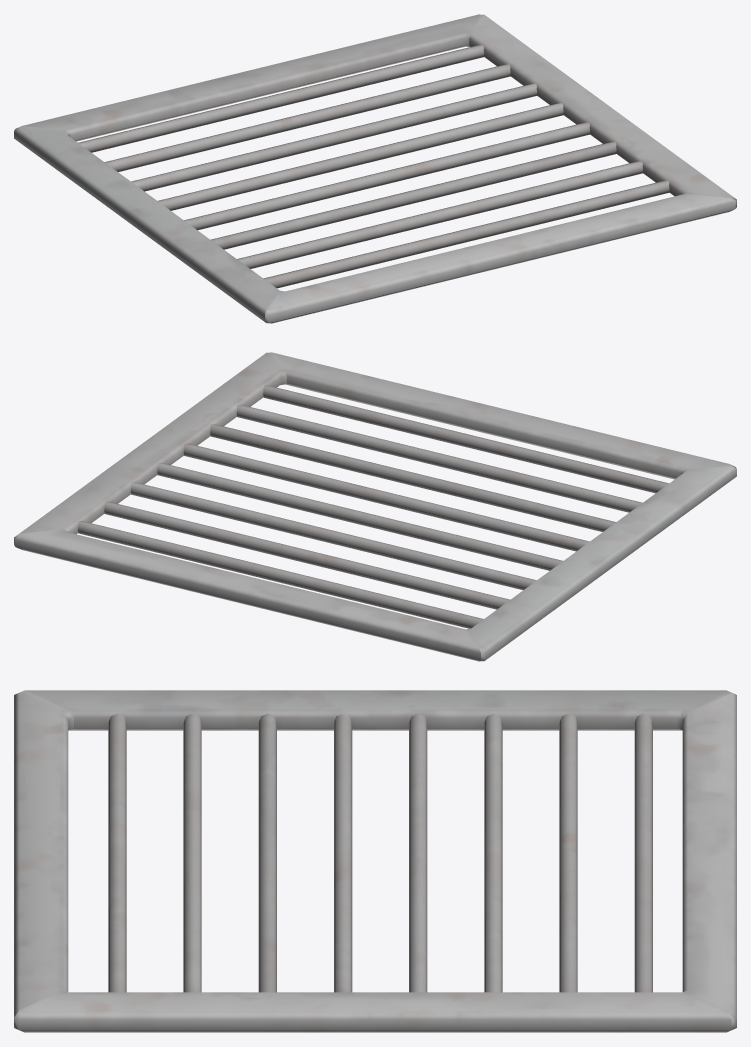
Rendered from SM_Farm_Grate.fbx.
3 renders of one model, top to bottom at view 1: azimuth 30°, elevation 25°; view 2: azimuth 150°, elevation 25°; view 3: azimuth 270°, elevation 25°, orthographic. The views are drawn at different scales.
Visible parts, largest first — view 1: SM_Farm_Grate_LOD0; view 2: SM_Farm_Grate_LOD0; view 3: SM_Farm_Grate_LOD0.
Part boxes in pixels (left/top/right/bottom): SM_Farm_Grate_LOD0: left=14, top=14, right=736, bottom=323; SM_Farm_Grate_LOD0: left=14, top=352, right=736, bottom=661; SM_Farm_Grate_LOD0: left=14, top=690, right=736, bottom=1032.
Bounding box in the file's own units: 90.97 × 2.6 × 84.98.
